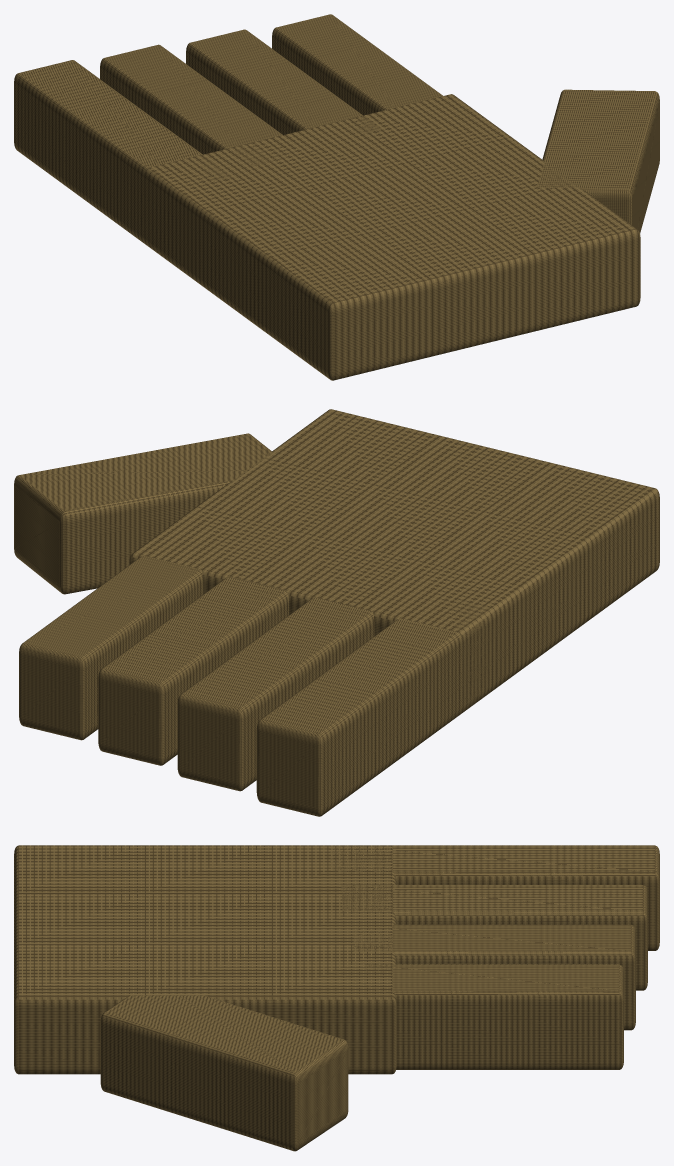
3 views of the same model, one above another, from view 1: azimuth 30°, elevation 25°; view 2: azimuth 150°, elevation 25°; view 3: azimuth 270°, elevation 25° (orthographic). The views are drawn at different scales.
Visible parts, largest first — view 1: b-glove; view 2: b-glove; view 3: b-glove.
Boxes of the visible parts, x1,y1,x2,y2 form: b-glove: (14,14,659,380); b-glove: (14,409,659,816); b-glove: (14,845,659,1151).
Bounding box in the file's own units: 0.1694 × 0.027 × 0.2.
1 material, 1 textured.
